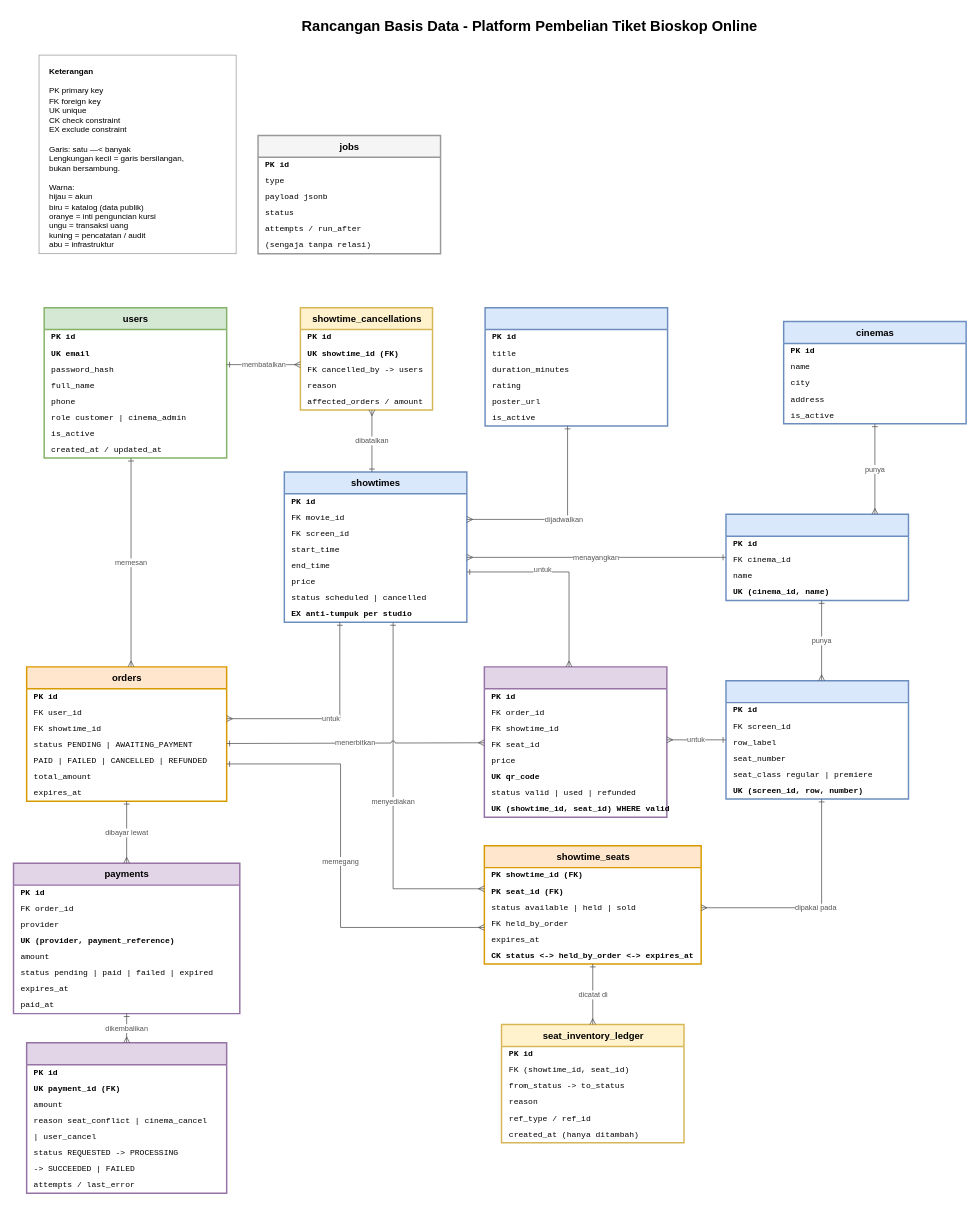
Some shapes in this 979 by 1206 pixel diagram are drawn without their labels. Here are the shapes that lost their labels. From the top down, the box of each, then its label:
(484, 307, 668, 426): movies
(725, 513, 909, 601): screens
(483, 666, 667, 818): tickets
(725, 680, 909, 799): seats
(26, 1042, 227, 1194): refunds
